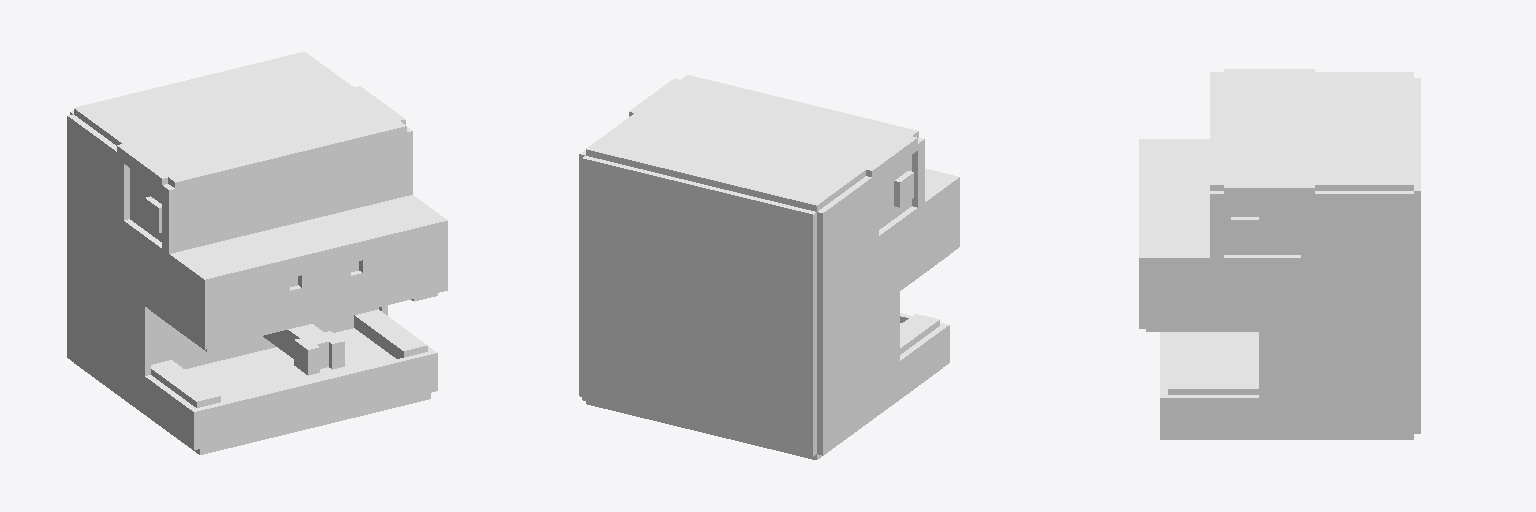
Rendered from SnakeHead_Edges.obj.
3 renders of one model, left to right at view 1: azimuth 30°, elevation 25°; view 2: azimuth 150°, elevation 25°; view 3: azimuth 270°, elevation 25°, orthographic.
Parts seen in each view (by area): view 1: object 1; view 2: object 1; view 3: object 1.
Boxes of the visible parts, x1=… form: object 1: x1=67, y1=52, x2=447, y2=454; object 1: x1=579, y1=75, x2=959, y2=459; object 1: x1=1139, y1=69, x2=1420, y2=439.
Bounding box in the file's own units: 4 × 4 × 4.